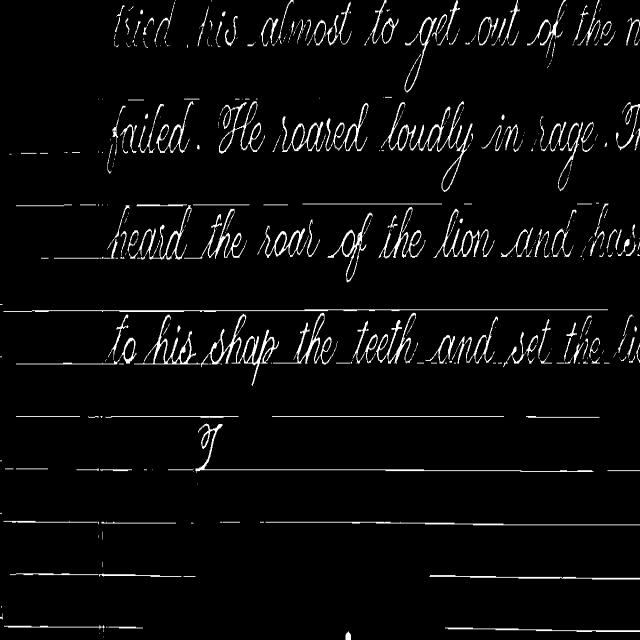hand: (346, 631, 351, 639)
noise: (4, 308, 606, 314), (10, 561, 196, 579), (258, 518, 640, 526), (202, 468, 595, 475), (444, 620, 640, 634), (0, 461, 202, 474), (428, 572, 640, 581), (2, 519, 180, 529), (3, 309, 240, 314), (270, 414, 505, 419), (4, 624, 143, 631), (88, 414, 239, 420), (301, 203, 445, 209), (6, 149, 80, 158), (520, 414, 599, 418), (16, 203, 74, 208), (40, 256, 110, 260), (135, 203, 190, 208), (16, 414, 80, 418), (219, 517, 252, 524), (420, 308, 492, 311), (330, 308, 402, 311), (16, 362, 108, 364), (192, 203, 252, 206), (500, 308, 542, 311), (575, 203, 600, 208), (550, 308, 582, 311), (78, 203, 106, 206), (273, 361, 294, 364), (262, 203, 290, 205), (184, 257, 201, 260), (184, 98, 199, 101), (462, 203, 473, 207), (335, 362, 351, 364), (383, 96, 392, 99), (128, 99, 144, 100), (236, 98, 240, 100), (244, 98, 248, 100)
not-noise: (113, 0, 640, 68), (381, 101, 472, 191), (107, 99, 194, 173), (200, 314, 278, 380), (272, 103, 368, 152), (106, 205, 192, 258), (539, 117, 597, 190), (404, 13, 452, 92), (501, 210, 576, 258), (425, 316, 498, 364), (351, 312, 418, 364), (328, 212, 372, 282), (581, 206, 640, 257), (142, 314, 196, 364), (439, 209, 494, 258), (218, 99, 266, 153), (200, 208, 246, 258), (380, 207, 424, 258), (293, 312, 336, 364), (261, 220, 319, 257), (510, 318, 550, 364), (564, 316, 600, 363), (482, 114, 524, 152), (219, 100, 258, 140), (108, 315, 136, 364), (195, 423, 222, 470), (615, 315, 640, 361), (616, 102, 640, 149), (492, 125, 518, 139), (122, 338, 136, 358), (250, 123, 264, 140), (196, 144, 200, 149), (604, 141, 607, 147)
